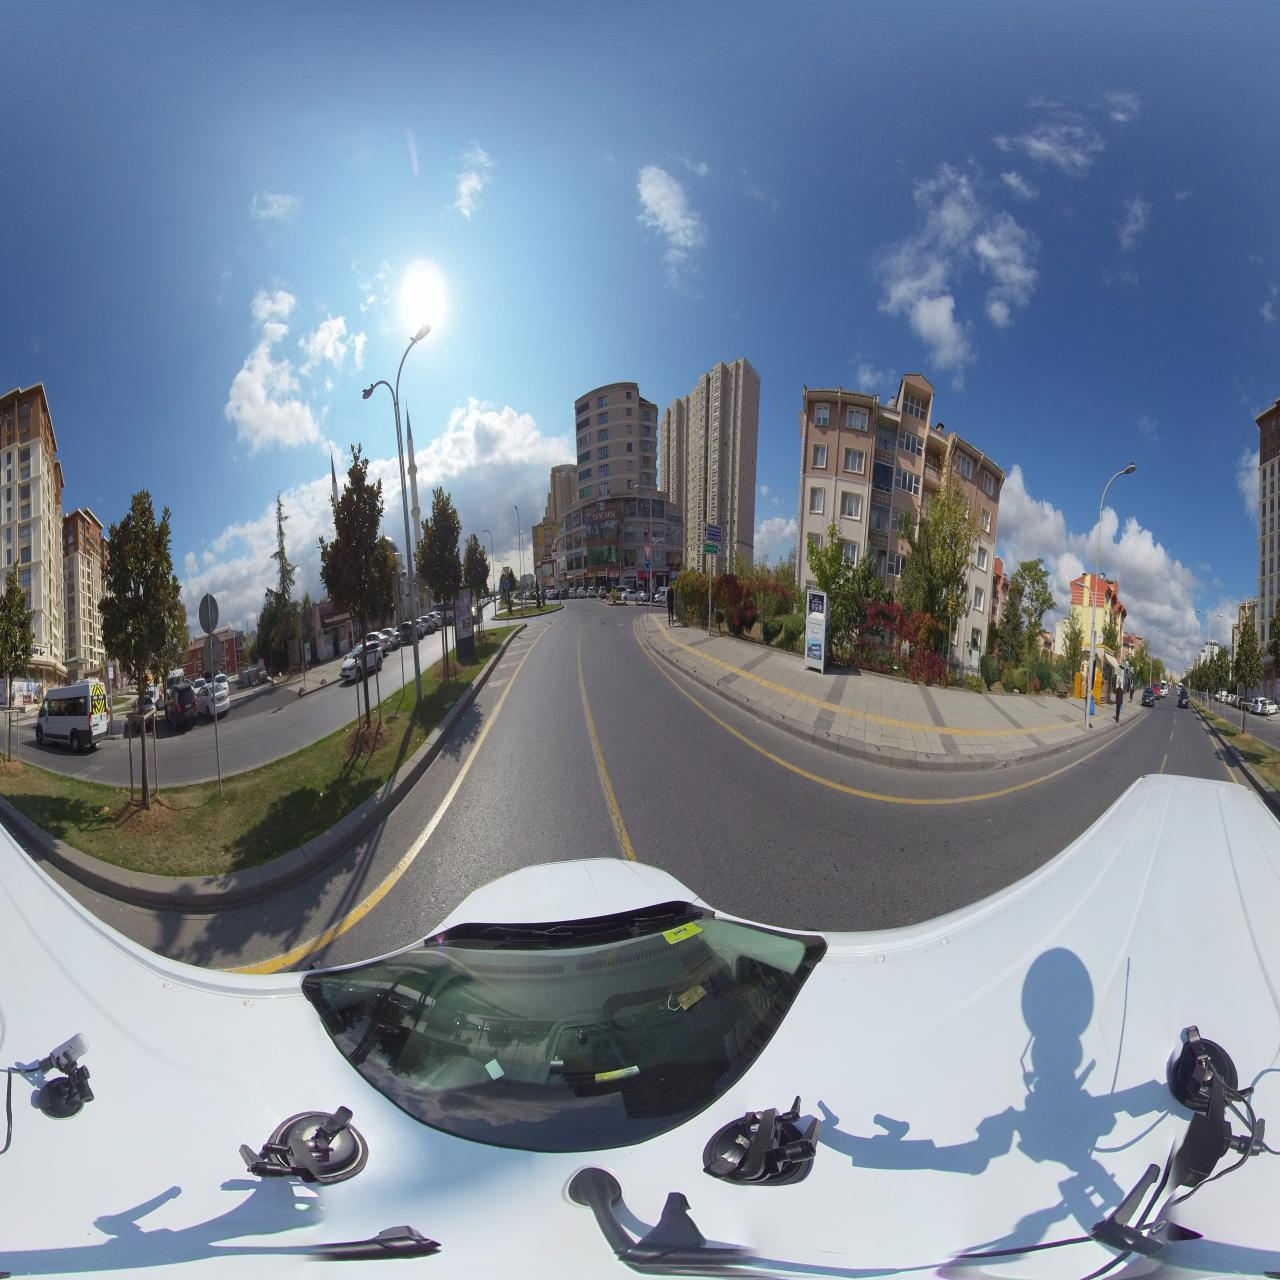SignStore: (592, 510, 617, 522), (667, 515, 683, 522), (666, 547, 683, 552), (610, 570, 619, 578), (598, 571, 606, 577), (574, 552, 581, 558), (576, 573, 583, 579), (566, 553, 573, 559), (584, 572, 588, 578)
